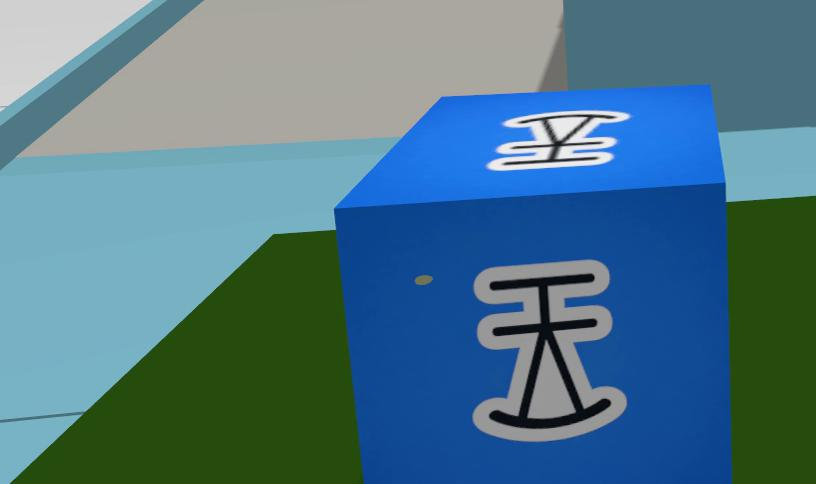KFS_REAL: (335, 86, 732, 483), (473, 260, 626, 440), (488, 110, 630, 169)
